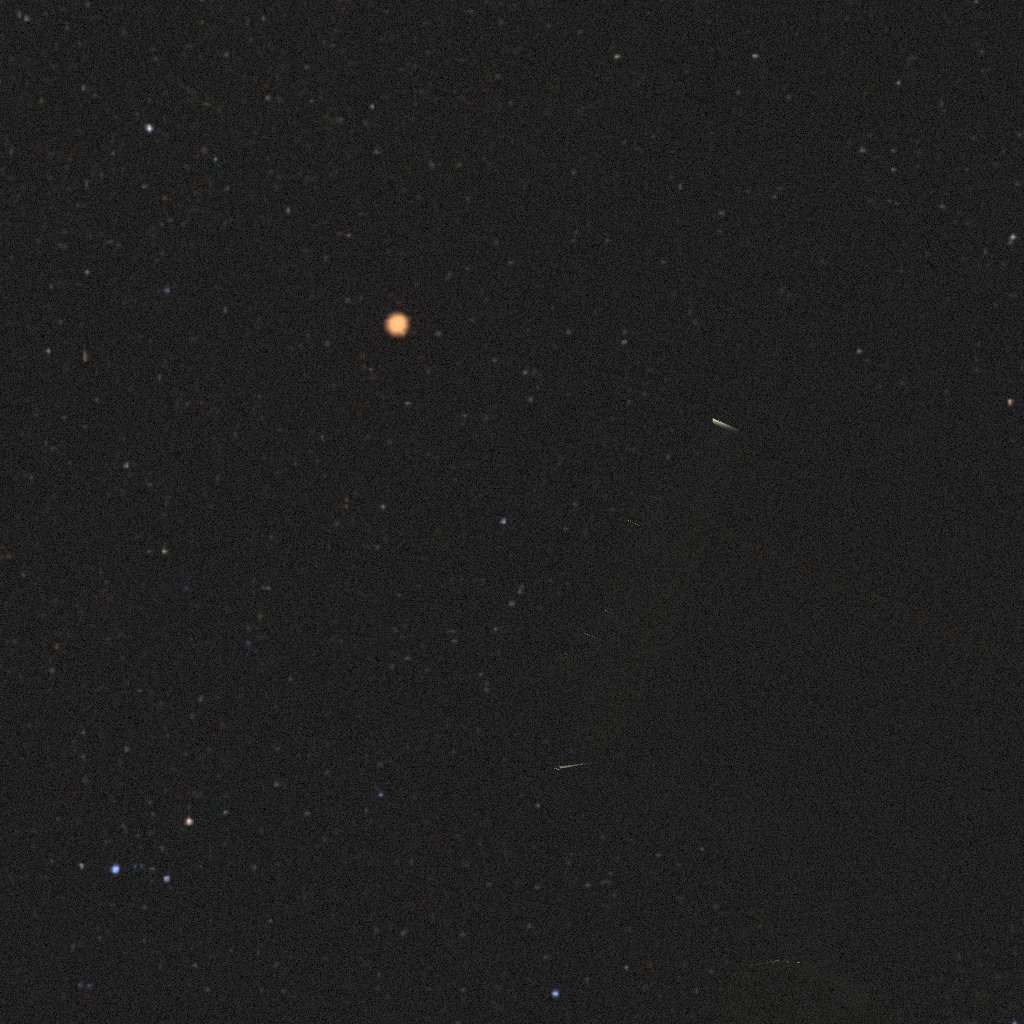cheops: (542, 340, 1024, 1024)
